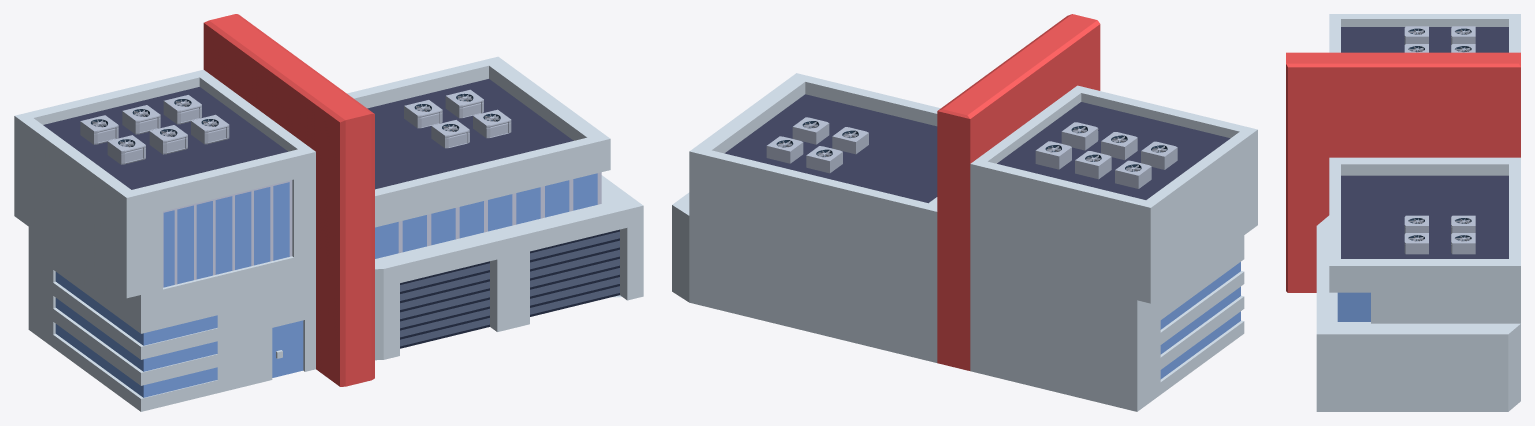
The model's file is Factory 1.fbx.
The picture shows the model from 3 angles, left to right: view 1: azimuth 30°, elevation 25°; view 2: azimuth 150°, elevation 25°; view 3: azimuth 270°, elevation 25°; orthographic projection. The views are drawn at different scales.
Visible parts, largest first — view 1: Hava; view 2: Hava; view 3: Hava.
Boxes of the visible parts, bbox=[...] form: Hava: bbox=[14, 14, 643, 411]; Hava: bbox=[672, 14, 1257, 411]; Hava: bbox=[1286, 14, 1520, 411].
Size of the model in its own units: 519 by 259 by 243.
